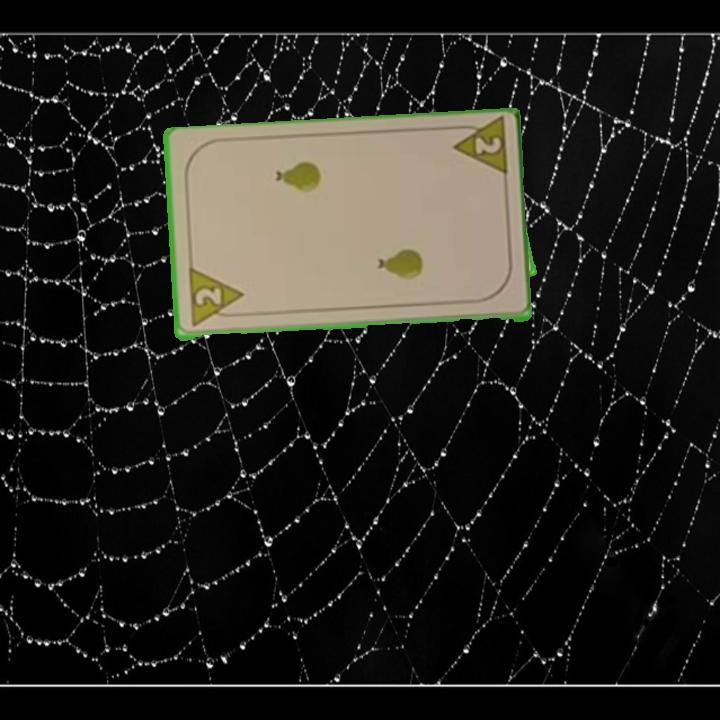2p: (447, 117, 510, 182), (184, 267, 246, 330)
